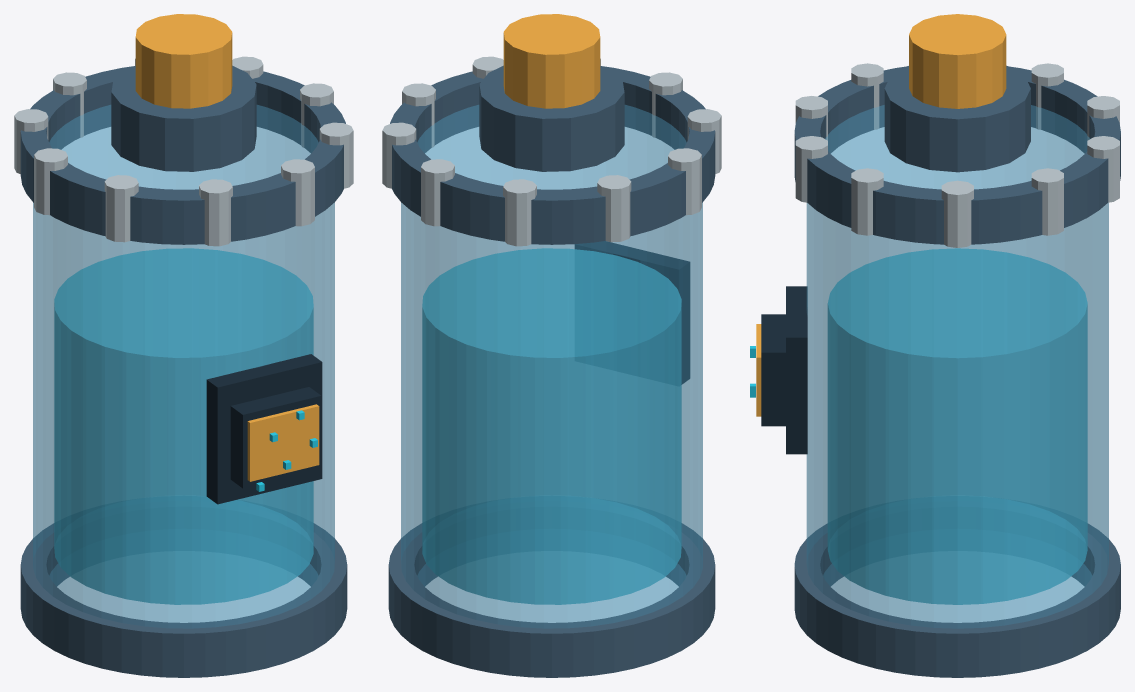
The model's file is 38_L76_VirtualLevelerCartridge.fbx.
3 views of the same model, side by side, from view 1: azimuth 30°, elevation 25°; view 2: azimuth 150°, elevation 25°; view 3: azimuth 270°, elevation 25° (orthographic).
Visible parts, largest first — view 1: VirtualLevelerCartridge, VirtualLevelerCartridge_Part_0023; view 2: VirtualLevelerCartridge, VirtualLevelerCartridge_Part_0023; view 3: VirtualLevelerCartridge, VirtualLevelerCartridge_Part_0023.
Part boxes in pixels (x1,y1,x2,y2): VirtualLevelerCartridge: [14, 56, 353, 677]; VirtualLevelerCartridge_Part_0023: [135, 14, 232, 108]; VirtualLevelerCartridge: [382, 56, 721, 677]; VirtualLevelerCartridge_Part_0023: [503, 14, 600, 108]; VirtualLevelerCartridge: [750, 63, 1120, 677]; VirtualLevelerCartridge_Part_0023: [909, 14, 1006, 108].
Bounding box in the file's own units: 69.93 × 130 × 76.08.
